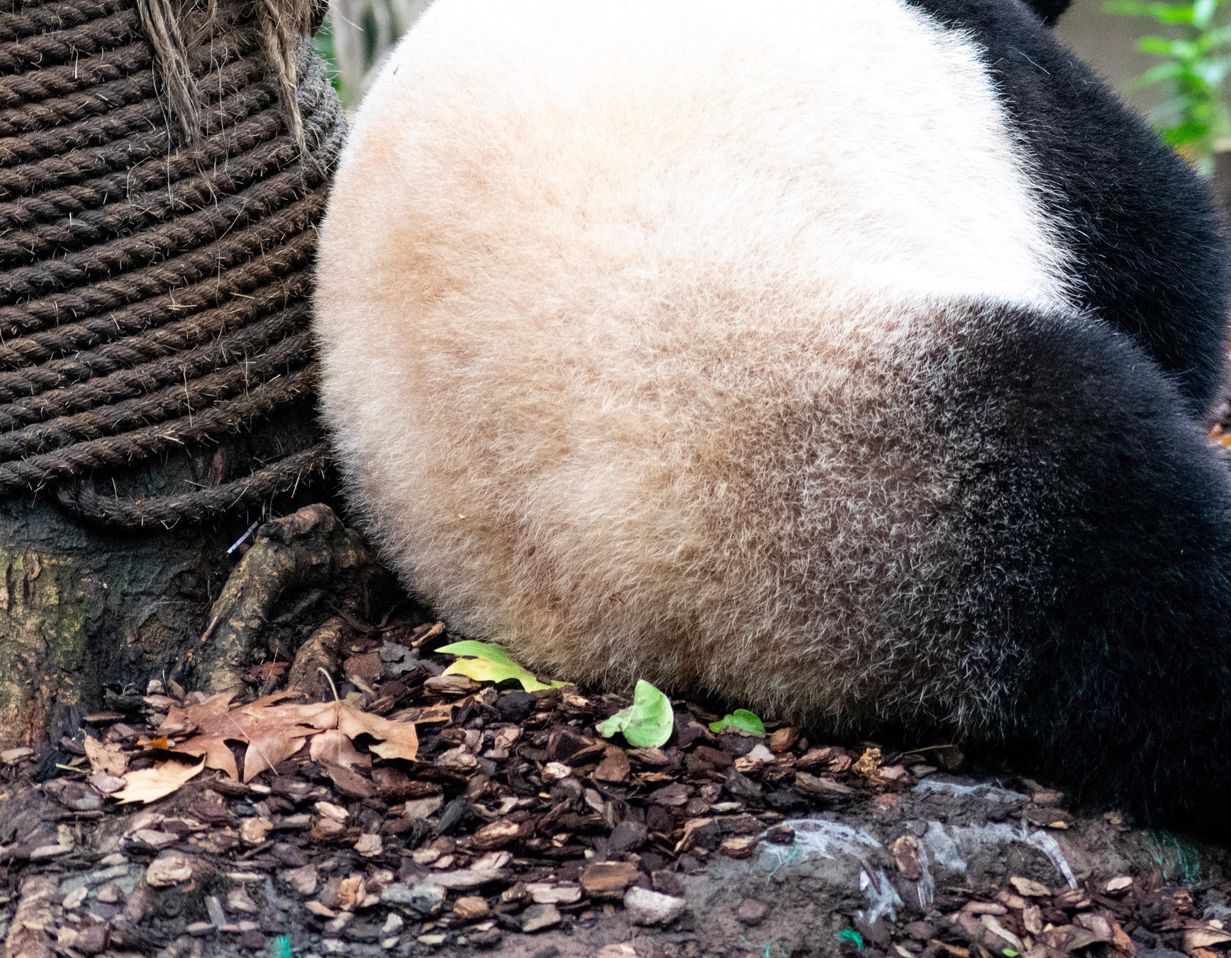panda: (317, 1, 1231, 787)
